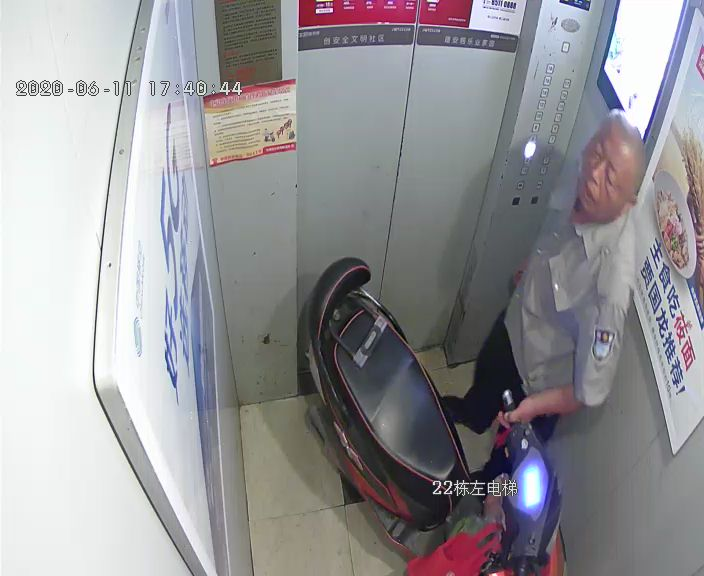Electric-bicycle: (304, 257, 563, 571)
